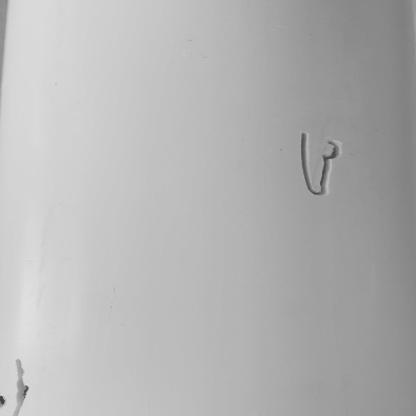fengxi: (293, 127, 345, 202)
kongdong: (10, 354, 31, 416)
